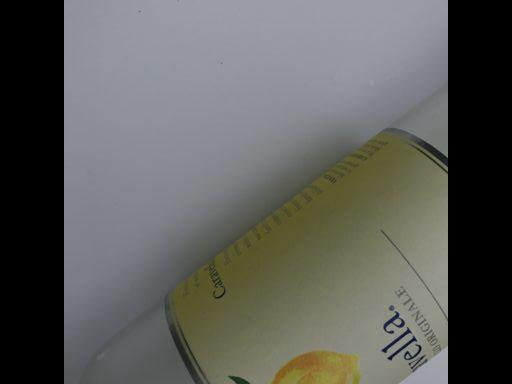cardboard: (166, 129, 447, 381)
